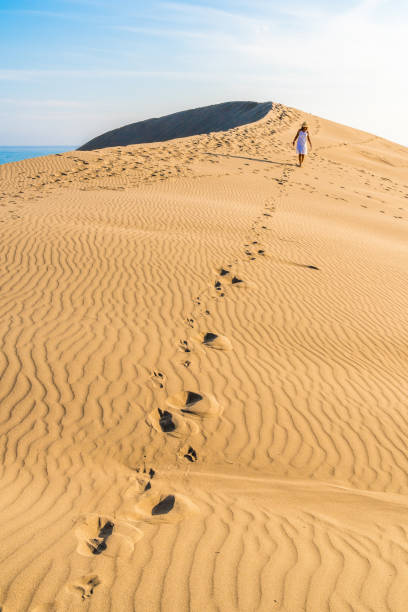human_footprint: (121, 480, 198, 530), (75, 514, 141, 556), (30, 573, 101, 611), (214, 267, 262, 304), (147, 407, 198, 440), (75, 515, 114, 554), (166, 390, 221, 417), (67, 574, 100, 599), (198, 331, 231, 350), (248, 242, 270, 268), (180, 445, 197, 462), (150, 370, 166, 388), (179, 339, 191, 352)
